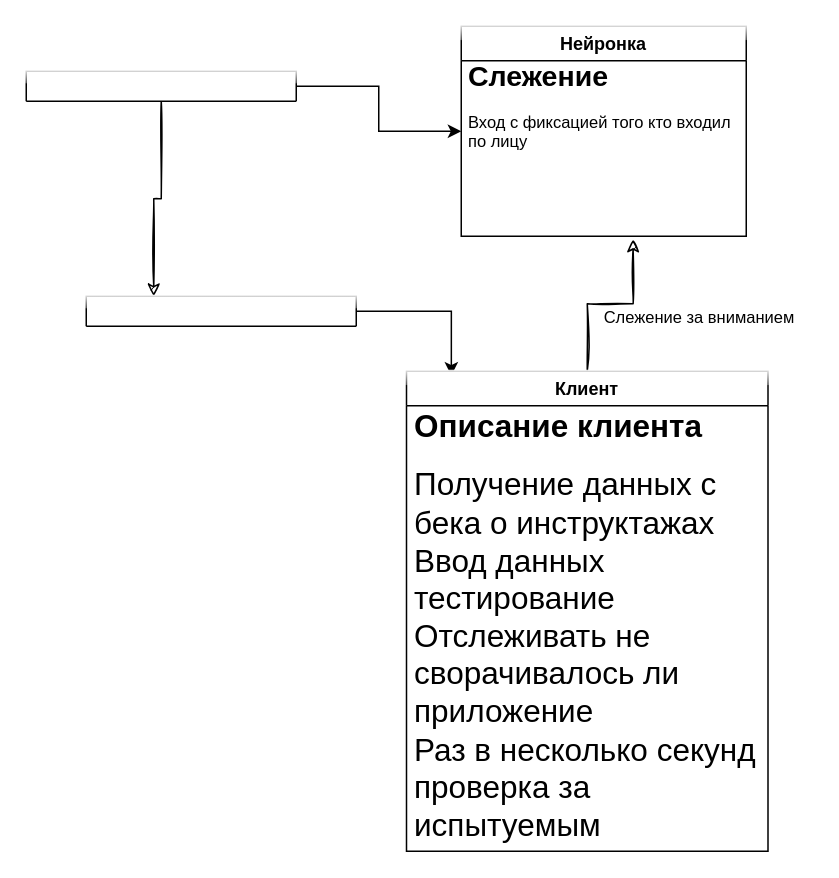
The diagram is 839 pixels wide and 878 high, and some of its shapes have lost their labels. Each missing label, with the centre of its shape:
"База данных" belongs at point (160, 85).
"Бек" belongs at point (220, 310).
